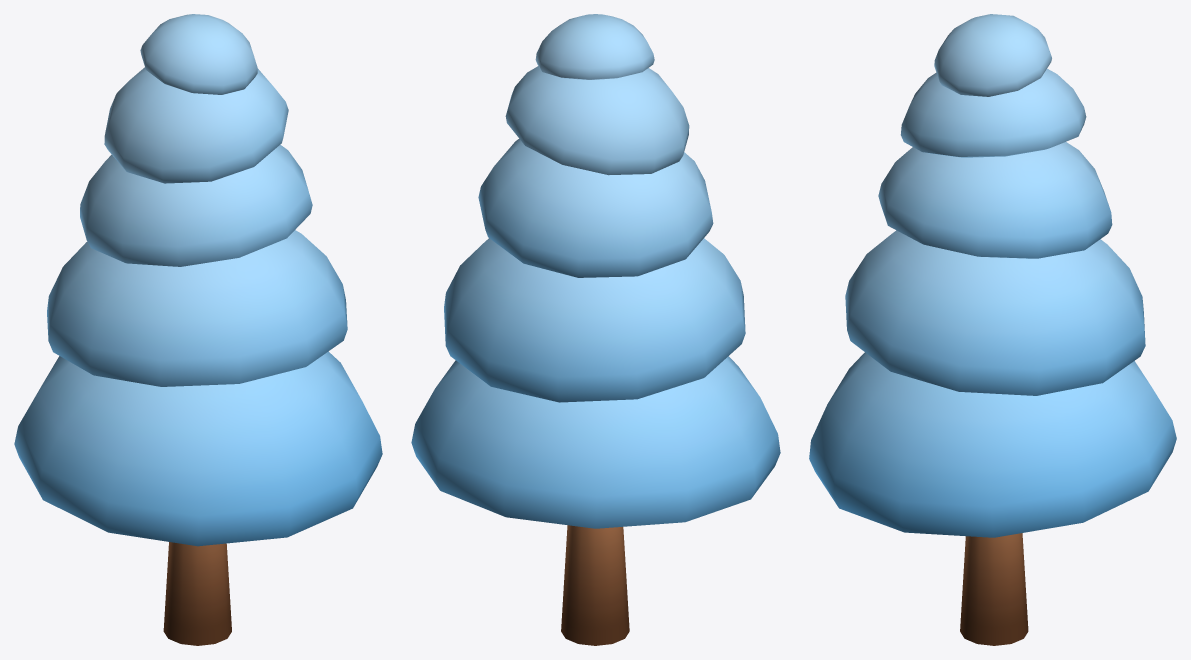
File: lpb_tree_3_d.fbx
3 renders of one model, left to right at view 1: azimuth 30°, elevation 25°; view 2: azimuth 150°, elevation 25°; view 3: azimuth 270°, elevation 25°, orthographic.
Visible parts, largest first — view 1: ap_tree_3.003; view 2: ap_tree_3.003; view 3: ap_tree_3.003.
Part boxes in pixels (x1,y1,x2,y2): ap_tree_3.003: (14, 14, 382, 645); ap_tree_3.003: (411, 14, 780, 645); ap_tree_3.003: (809, 14, 1176, 645).
Bounding box in the file's own units: 293 × 536 × 293.
